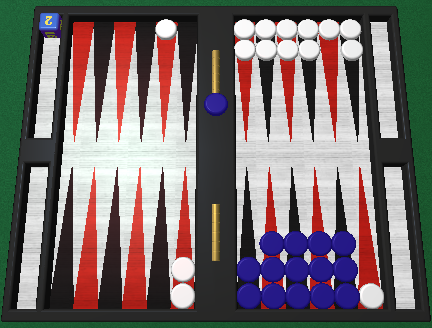bar: (196, 7, 234, 321)
checker_blue: (333, 282, 360, 309), (331, 230, 356, 255), (260, 231, 284, 256), (308, 231, 332, 256), (285, 258, 309, 282), (309, 257, 333, 281), (286, 284, 310, 308), (261, 258, 285, 282), (284, 231, 308, 255), (236, 257, 260, 281), (237, 284, 261, 308), (310, 283, 334, 307), (262, 283, 285, 308), (332, 257, 357, 280), (204, 92, 227, 115)
checker_white: (358, 282, 384, 307), (171, 284, 195, 308), (171, 257, 195, 281), (254, 38, 278, 62), (338, 16, 362, 39), (340, 40, 364, 61), (318, 18, 340, 40), (298, 38, 320, 60), (233, 38, 255, 59), (233, 18, 255, 39), (155, 18, 177, 39), (255, 18, 276, 39), (277, 39, 299, 59), (277, 18, 297, 39), (298, 19, 319, 39)
endbox: (7, 160, 50, 311), (381, 161, 419, 309), (364, 12, 403, 140), (27, 12, 61, 142)
point: (74, 166, 99, 307), (333, 167, 356, 309), (308, 166, 331, 308), (285, 166, 308, 308), (261, 167, 284, 309), (237, 167, 260, 309), (173, 165, 196, 307), (147, 166, 170, 308), (123, 166, 146, 308), (99, 167, 122, 309), (52, 167, 74, 308), (357, 165, 378, 307), (71, 22, 93, 142), (113, 21, 135, 141), (155, 21, 177, 141), (134, 20, 156, 140), (93, 22, 113, 141), (178, 21, 198, 140), (234, 21, 254, 140), (255, 21, 275, 140), (276, 21, 296, 140), (297, 20, 317, 139), (318, 20, 338, 139), (340, 21, 360, 140)
